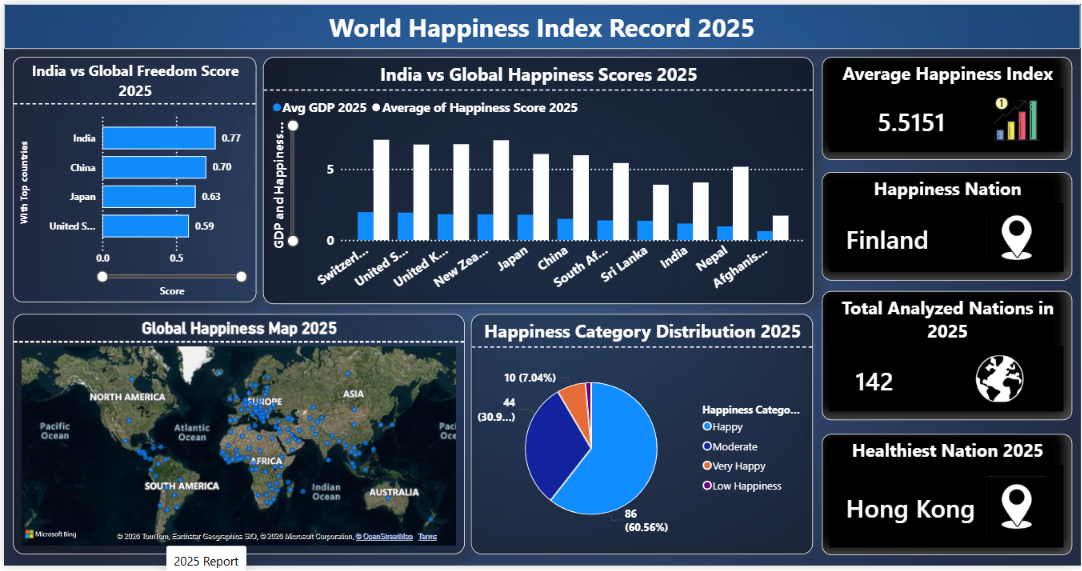

What the dashboard file says about the page in this screenshot:
{"tool":"powerbi","page":{"name":"2025 Report","canvas":[1380,720],"ordinal":1},"visuals":[{"type":"textbox","box":[0,0,1380.3,57.7],"z":0},{"type":"cardVisual","title":"Average Happiness Index","fields":{"Data":["2025.Avg Happiness index"]},"box":[1049.3,67.7,320.9,131.6],"z":1000},{"type":"cardVisual","title":"Total Analyzed Nations in 2025","fields":{"Data":["2025.Total Countries 2025"]},"box":[1048.8,368.8,321.2,167.5],"z":2000},{"type":"cardVisual","title":"Happiness Nation","fields":{"Data":["2025.Happiest Country 2025"]},"box":[1048.8,213.8,321.2,141.2],"z":3000},{"type":"pieChart","title":"Happiness Category Distribution 2025","fields":{"Y":["CountNonNull(2025.Country)"],"Category":["2025.Happiness Category"]},"box":[599.6,395.7,437.9,311.3],"z":4000},{"type":"map","title":"Global Happiness Map 2025","fields":{"Category":["2025.Country"]},"box":[10.9,396.9,576.7,311.3],"z":5000},{"type":"barChart","title":"India vs Global Freedom Score 2025","fields":{"Y":["Avg(2025.Freedom)"],"Category":["2025.Country"]},"box":[11.3,67.7,312.2,314.7],"z":6000},{"type":"cardVisual","title":"Healthiest Nation 2025","fields":{"Data":["2025.Healthiest Nation 2025"]},"box":[1048.8,551.2,321.2,156.2],"z":7000},{"type":"clusteredColumnChart","title":"India vs Global Happiness Scores 2025","fields":{"Category":["2024.Country "],"Y":["2025.Avg GDP","Avg(2025.Happiness Score)"]},"box":[332.2,67.7,705.8,317.2],"z":8000}]}

Visuals, with their boxes in screenshot pixels (x1, y1, x2, y2), scaled from the page's 1380x720 canvas onto the 1082x571 screenshot:
textbox: rect(0, 0, 1081, 46)
"Average Happiness Index" cardVisual: rect(823, 54, 1074, 158)
"Total Analyzed Nations in 2025" cardVisual: rect(822, 292, 1074, 425)
"Happiness Nation" cardVisual: rect(822, 170, 1074, 282)
"Happiness Category Distribution 2025" pieChart: rect(470, 314, 813, 561)
"Global Happiness Map 2025" map: rect(9, 315, 461, 562)
"India vs Global Freedom Score 2025" barChart: rect(9, 54, 254, 303)
"Healthiest Nation 2025" cardVisual: rect(822, 437, 1074, 561)
"India vs Global Happiness Scores 2025" clusteredColumnChart: rect(260, 54, 814, 305)
